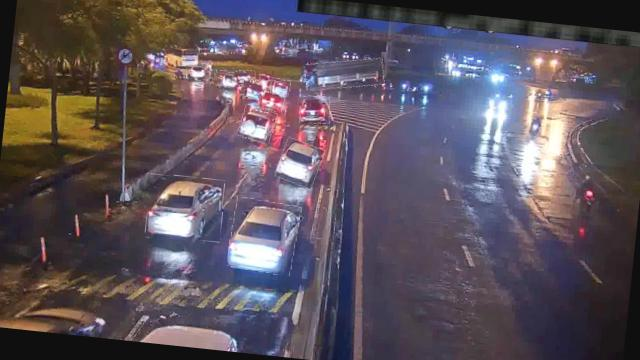Bike: (524, 112, 544, 142)
Car: (228, 197, 300, 276), (144, 173, 225, 243), (276, 140, 324, 188), (238, 106, 276, 144), (298, 94, 331, 126), (257, 90, 285, 112), (240, 80, 266, 102), (213, 70, 241, 89), (186, 63, 211, 82), (266, 78, 291, 96), (233, 69, 256, 86)
Truck: (303, 54, 385, 94)
